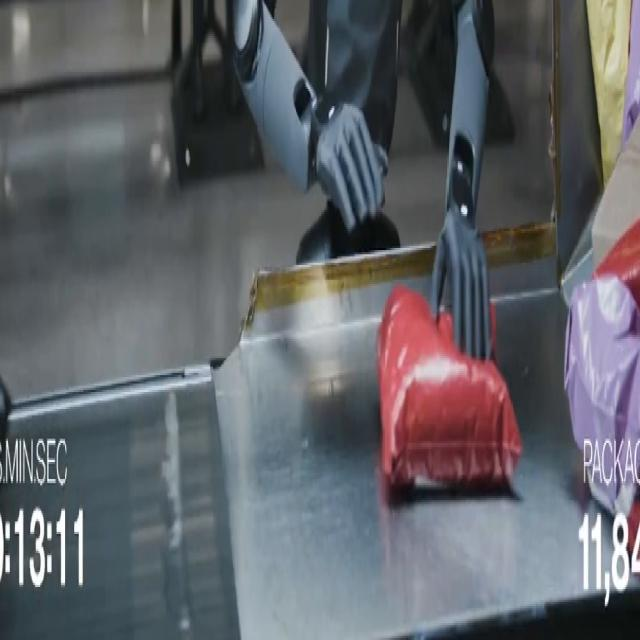package: (377, 287, 521, 489), (566, 223, 639, 553), (565, 276, 639, 510), (587, 0, 631, 184), (592, 123, 639, 267), (594, 221, 639, 305), (623, 0, 639, 148), (627, 499, 639, 559)
